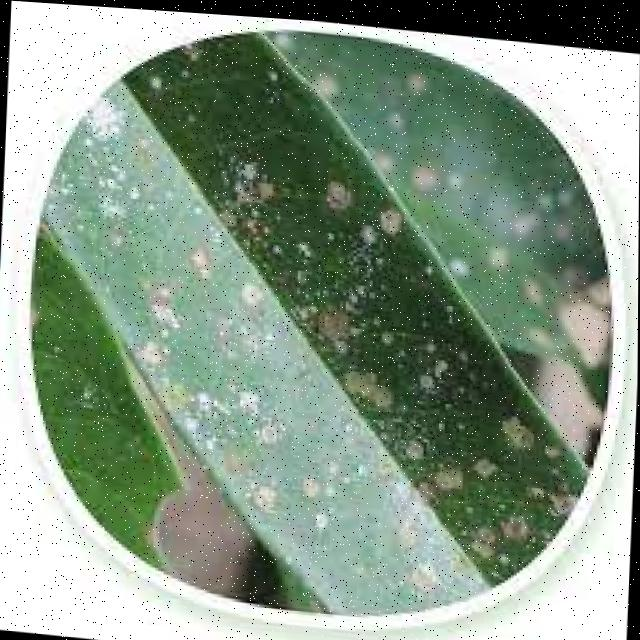Anthracnose: (80, 74, 545, 553)
